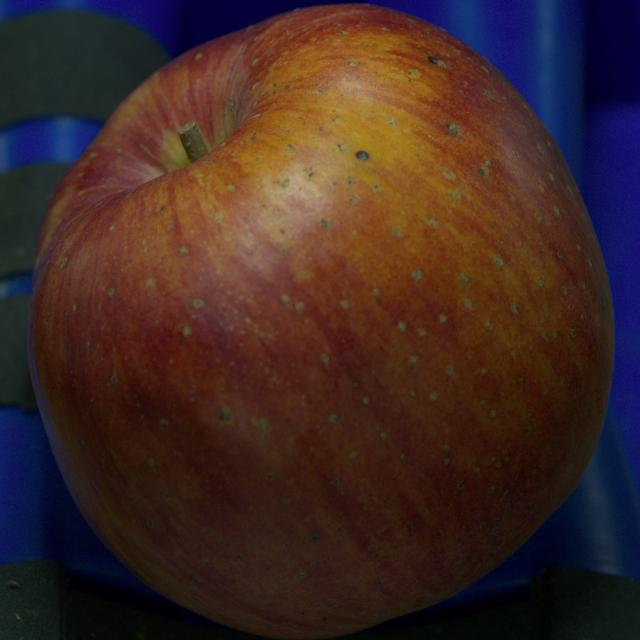apple: (28, 4, 614, 638)
pest: (219, 410, 233, 424), (429, 56, 445, 67), (448, 123, 458, 134), (356, 152, 368, 159), (478, 168, 486, 174)
